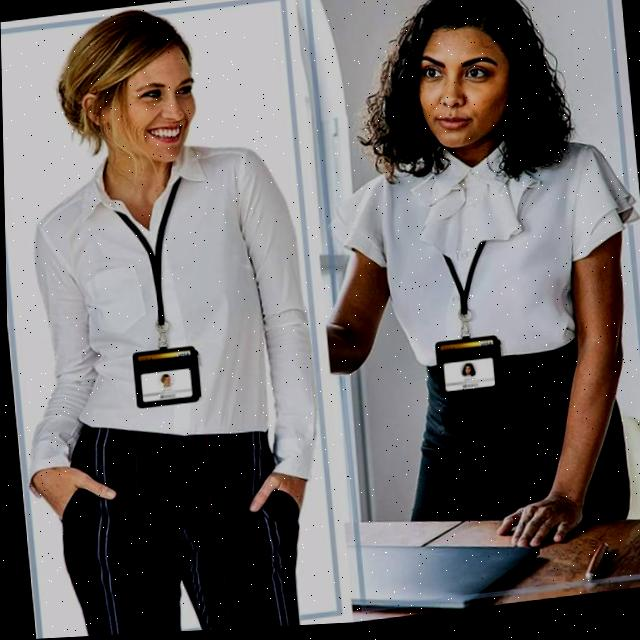id_card: (96, 176, 217, 421), (421, 201, 511, 406)
